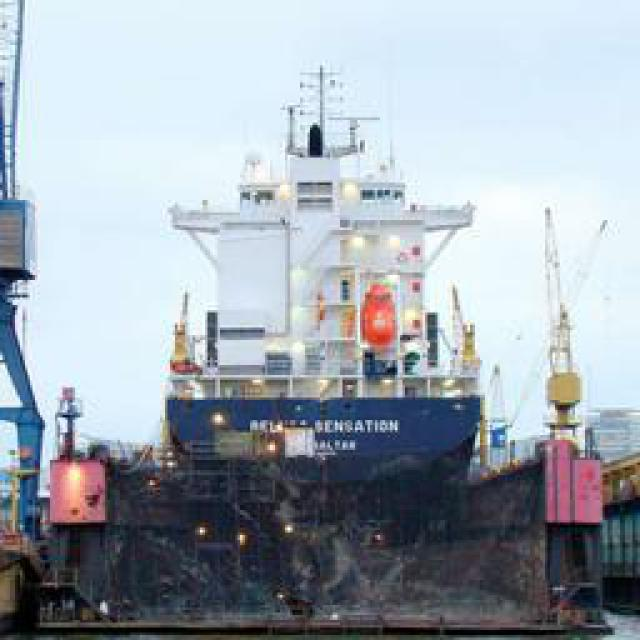Ship: (75, 40, 493, 613)
